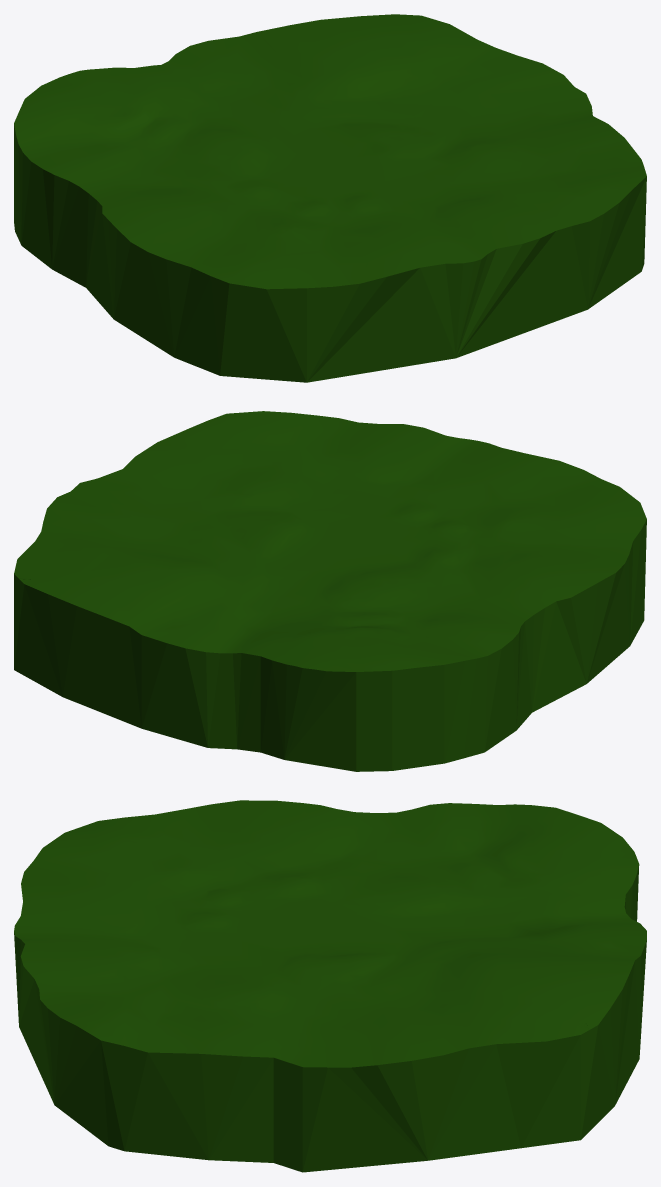
File: diqiuchangjing_dibiao.FBX
3 renders of one model, top to bottom at view 1: azimuth 30°, elevation 25°; view 2: azimuth 150°, elevation 25°; view 3: azimuth 270°, elevation 25°, orthographic. The views are drawn at different scales.
Parts seen in each view (by area): view 1: diqiuchangjing_dibiao; view 2: diqiuchangjing_dibiao; view 3: diqiuchangjing_dibiao.
Boxes of the visible parts, left/top/right/bottom form: diqiuchangjing_dibiao: left=14, top=14, right=646, bottom=382; diqiuchangjing_dibiao: left=14, top=411, right=646, bottom=771; diqiuchangjing_dibiao: left=14, top=800, right=646, bottom=1172.
Size of the model in its own units: 93049 by 19616 by 93894.
